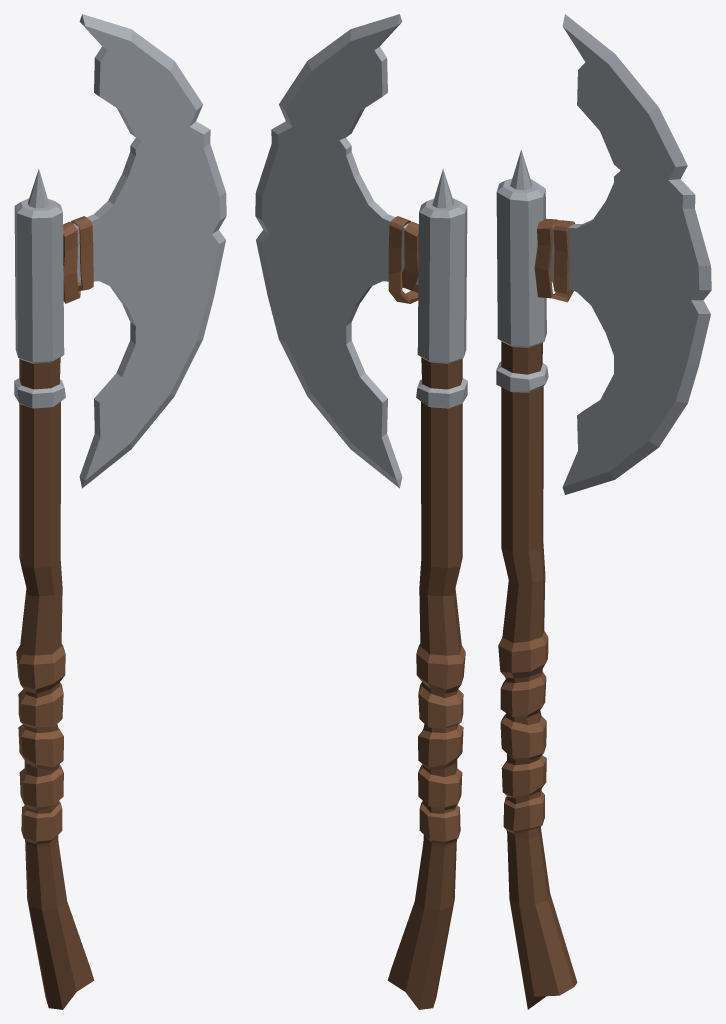
File: axe.glb
3 views of the same model, side by side, from view 1: azimuth 30°, elevation 25°; view 2: azimuth 150°, elevation 25°; view 3: azimuth 330°, elevation 25° (orthographic).
Parts seen in each view (by area): view 1: Axe; view 2: Axe; view 3: Axe.
Boxes of the visible parts, box(x1,y1,x2,y2) form: Axe: box(14, 14, 226, 1009); Axe: box(255, 14, 467, 1009); Axe: box(496, 14, 711, 1009).
Size of the model in its own units: 1.17 by 5.26 by 0.2483.
